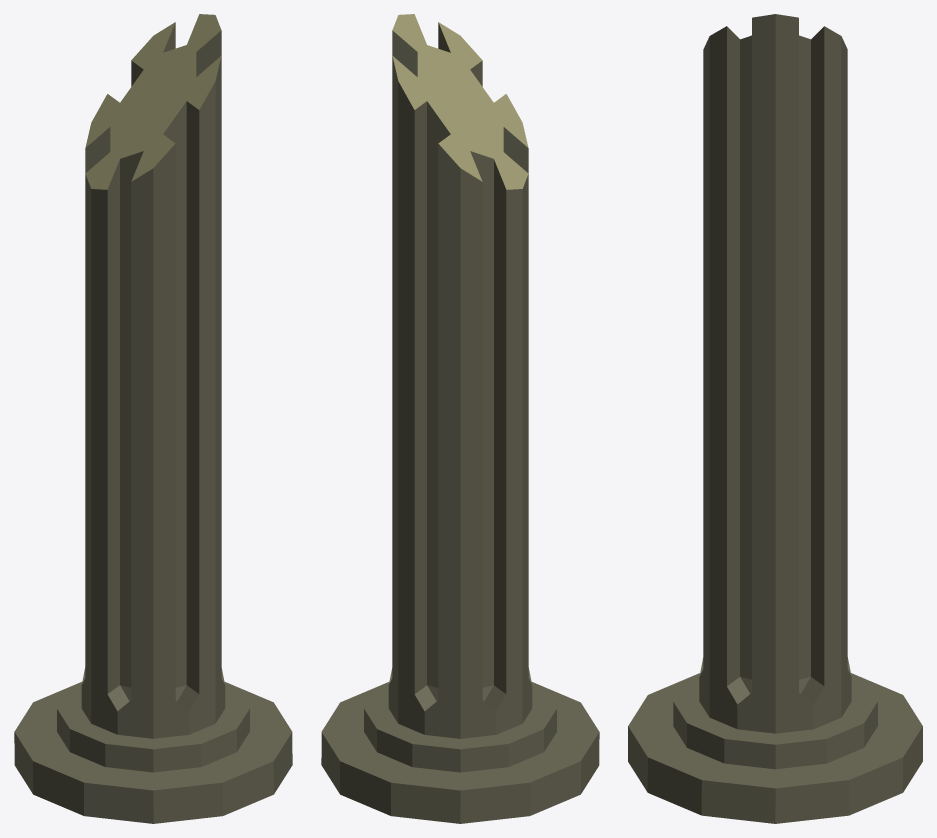
File: colon 2.fbx
3 renders of one model, left to right at view 1: azimuth 30°, elevation 25°; view 2: azimuth 150°, elevation 25°; view 3: azimuth 270°, elevation 25°, orthographic. The views are drawn at different scales.
Visible parts, largest first — view 1: colon 2; view 2: colon 2; view 3: colon 2.
Part boxes in pixels (x1,y1,x2,y2): colon 2: [14, 14, 292, 823]; colon 2: [321, 14, 599, 823]; colon 2: [628, 14, 922, 823].
Size of the model in its own units: 185 by 540 by 185.
